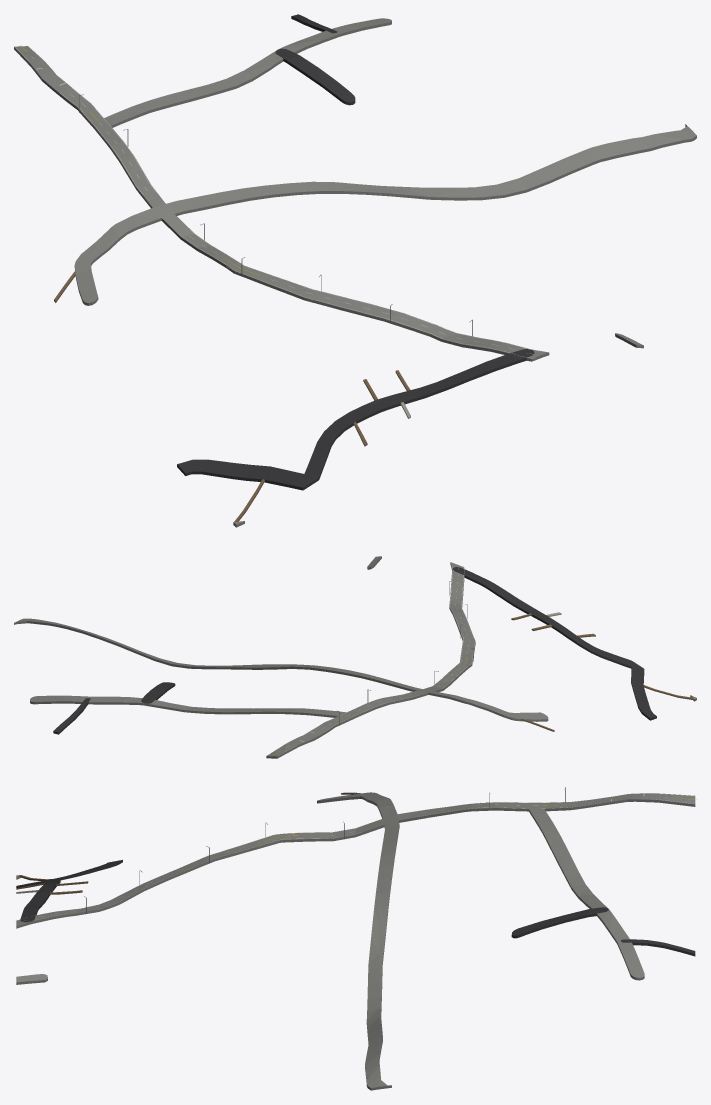
3 renders of one model, top to bottom at view 1: azimuth 30°, elevation 25°; view 2: azimuth 150°, elevation 25°; view 3: azimuth 270°, elevation 25°, orthographic. The views are drawn at different scales.
Bounding box in the file's own units: 293 × 73.65 × 293.
